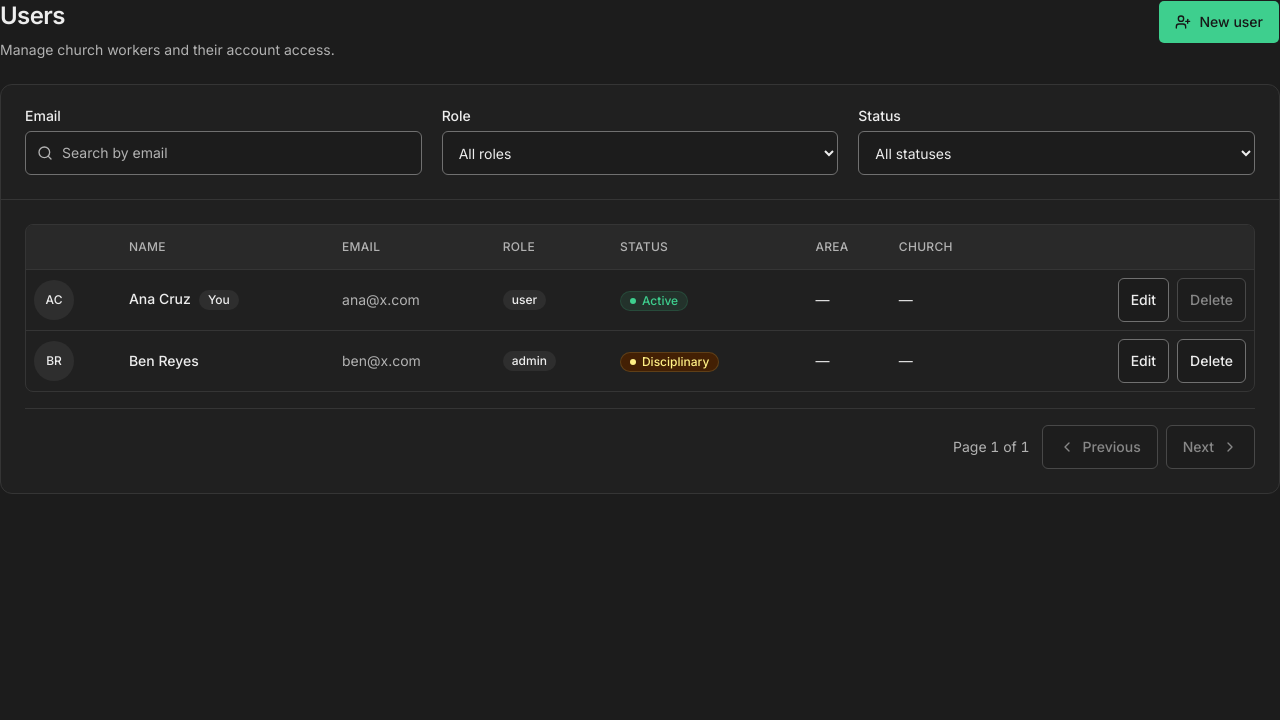
Test: users list › a 409 stays in the dialog as an alert
The image size is (1280, 720).
Step 1. Click the button named "Delete Ben Reyes" → point(1212, 360), box [1177,338,1246,382]
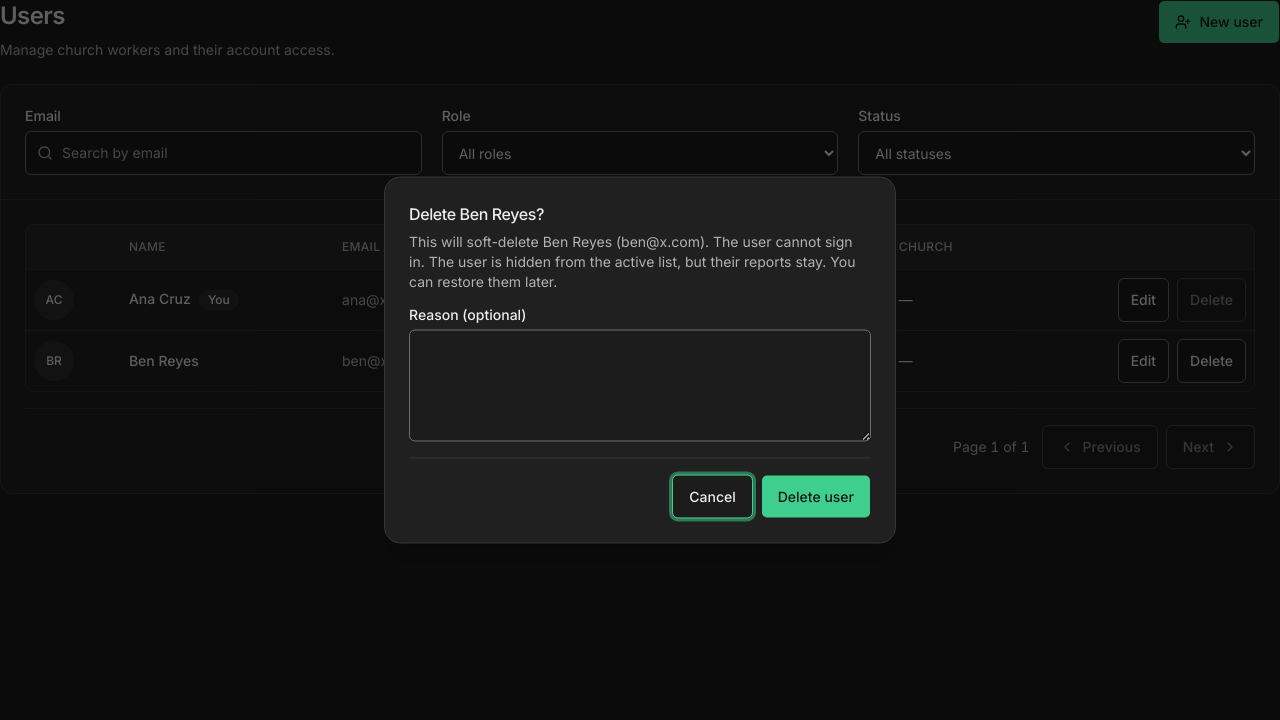
Step 2. Click the button "Delete user" → point(816, 496), box [761,474,871,518]
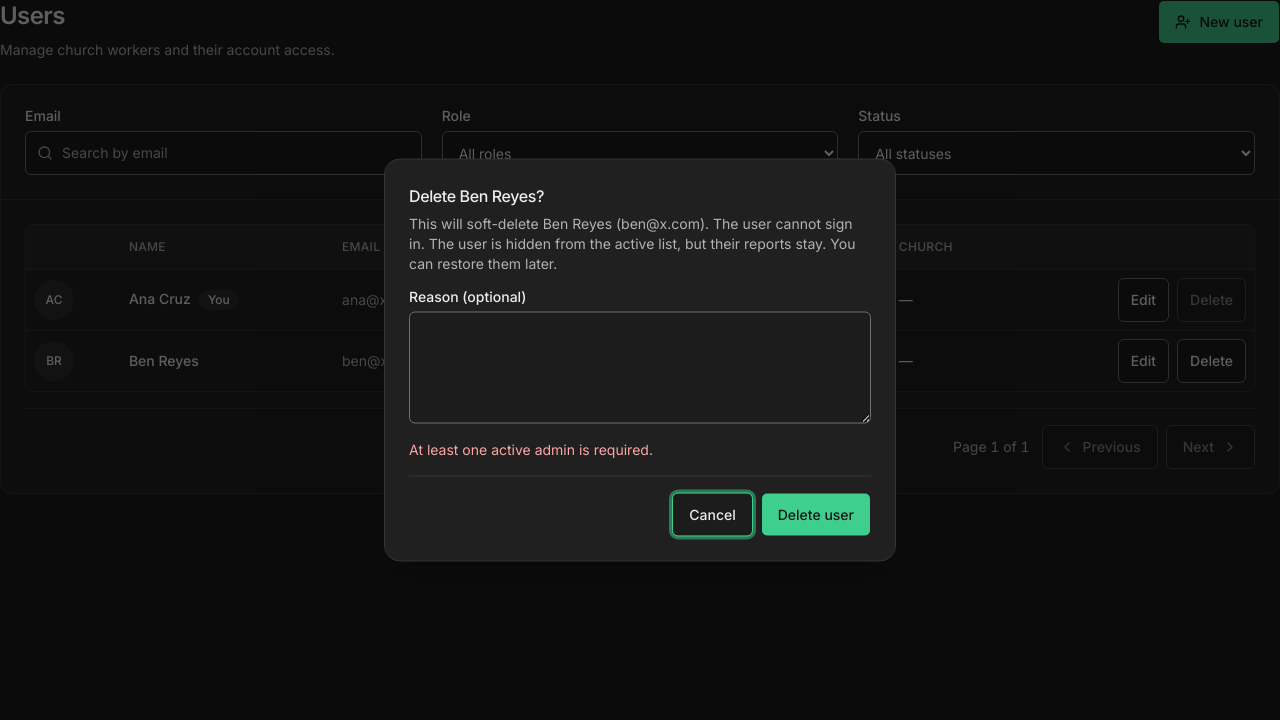
Result: the dialog is shown at [384,158,896,562]
Result: the message reads "At least one active admin is required." at [409,440,653,458]
